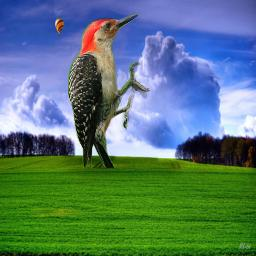Woodpecker: (68, 14, 150, 168)
